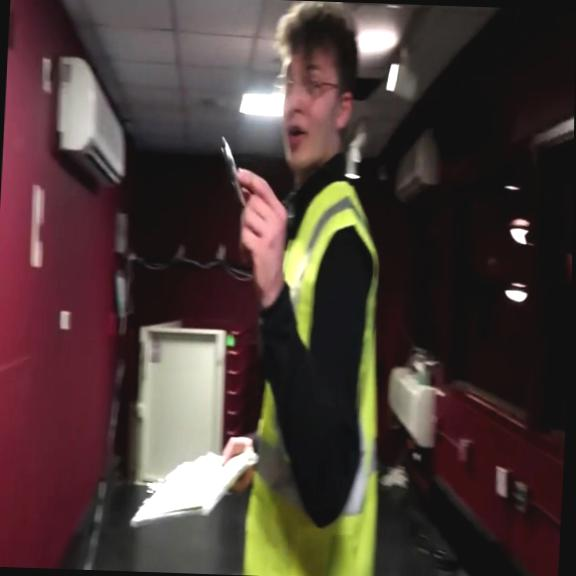safety_vest: (238, 166, 396, 576)
